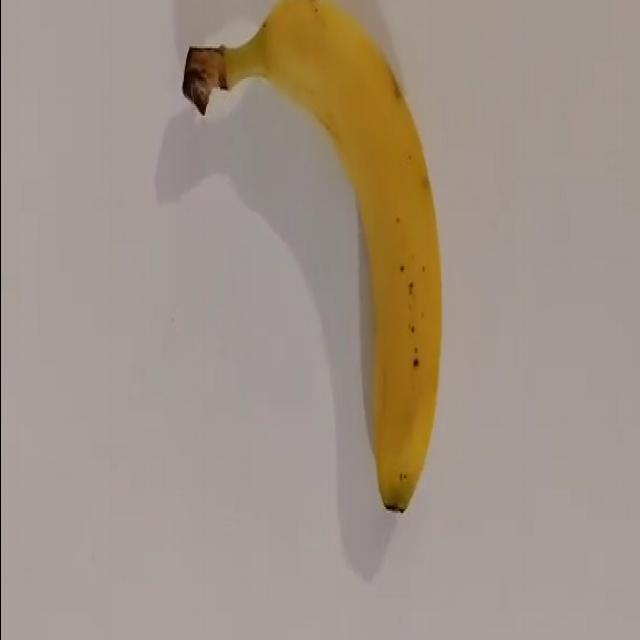Banana: (181, 0, 443, 513)
